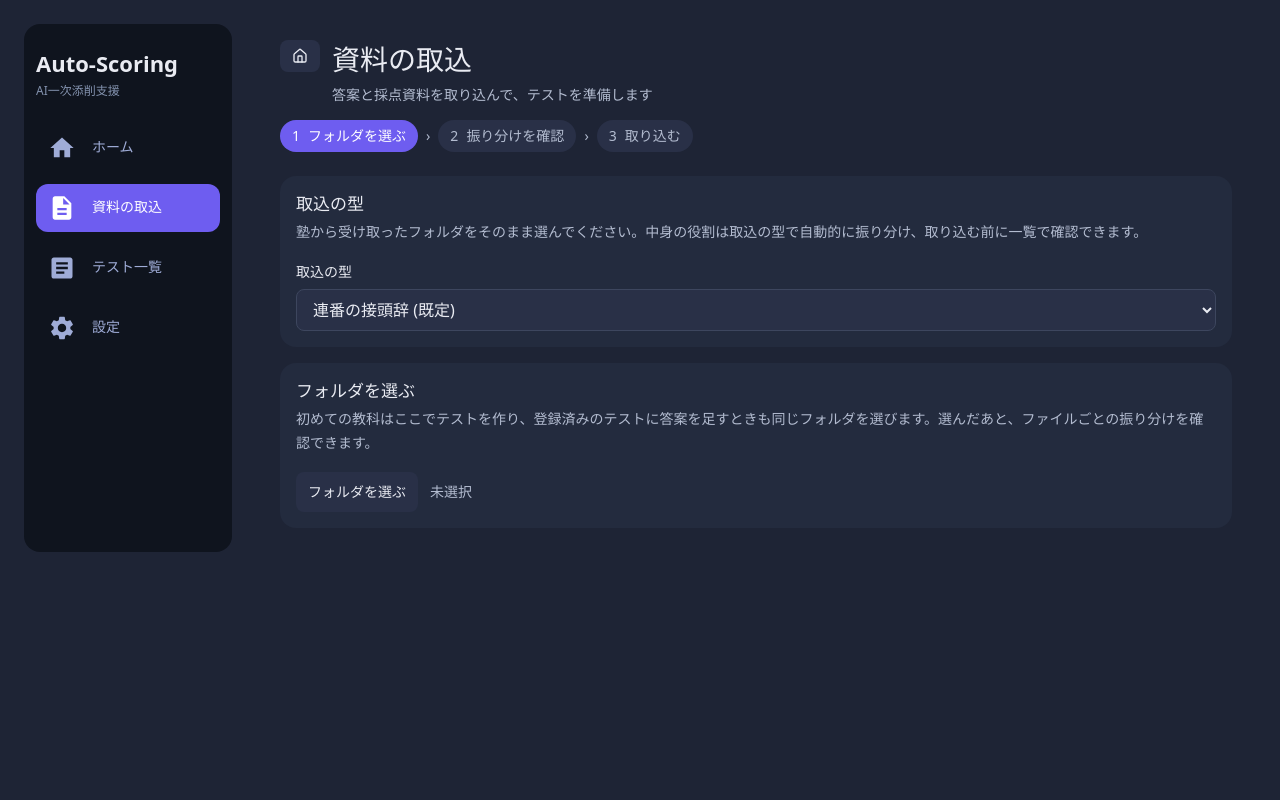
Scenario: Issue #384 (3): the intake selection survives leaving the screen › does not restore when the folder changed on disk, and says why
This screenshot has width=1280, height=800.
Check: the dropdown with test id "intake-template-picker" is shown, box [296, 289, 1216, 331]
What coordinates should you click on to do the following:
click the button with test id "intake-choose-folder"
I would click on:
 (357, 492)
Its box is [296, 472, 418, 512].
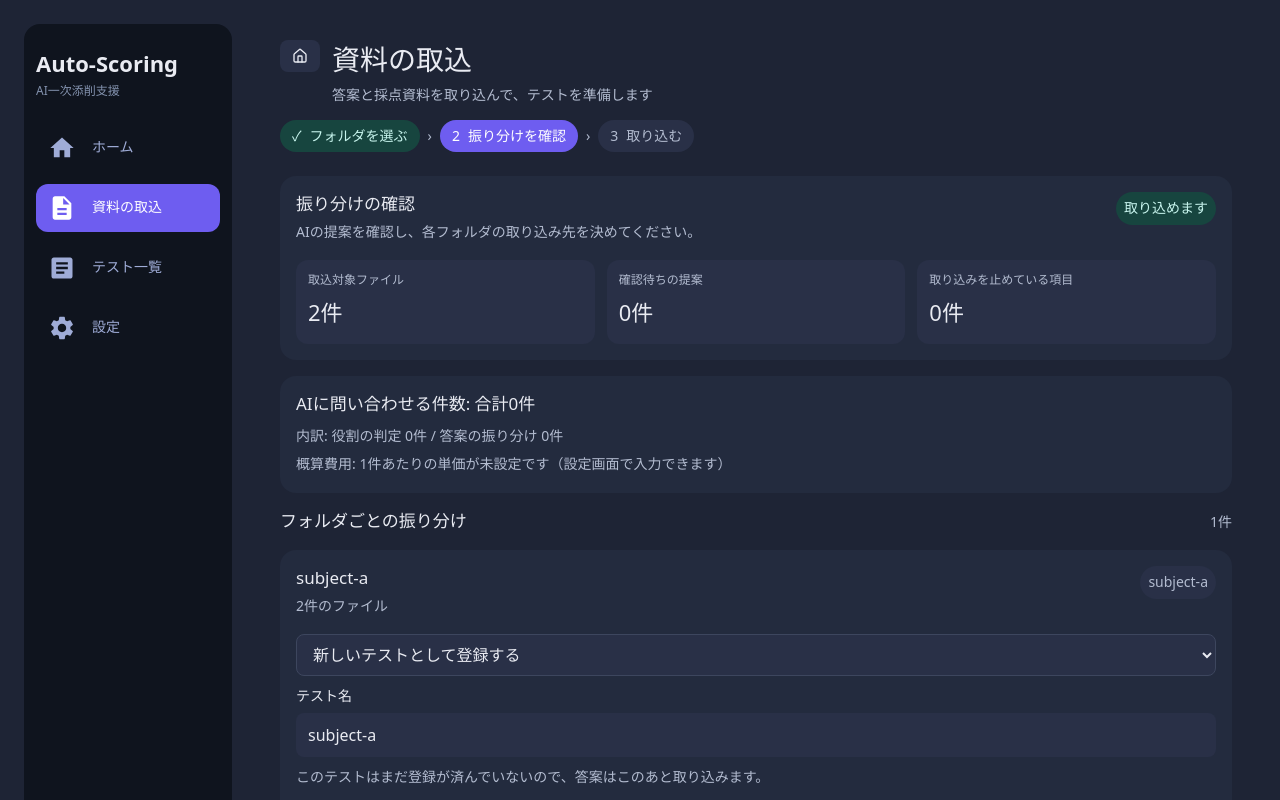
Check: the element with test id "intake-review-summary" is shown, box [280, 176, 1232, 360]
What coordinates should you click on to do the following:
click the button with test id "sidebar-nav-tests"
I would click on:
 (128, 268)
Its box is [36, 244, 220, 292].
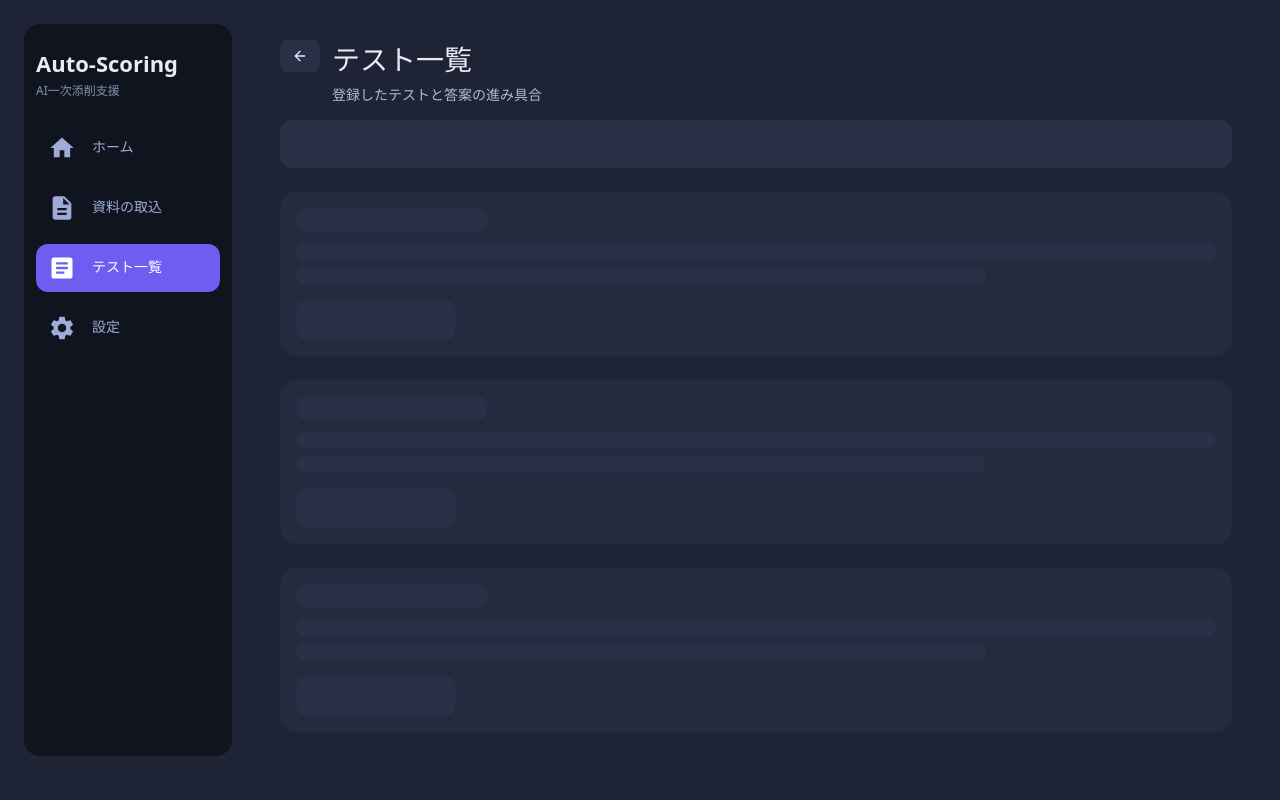
Check: the heading "テスト一覧" is shown, box [332, 40, 472, 78]
What coordinates should you click on to do the following:
click the button with test id "sidebar-nav-intake"
I would click on:
 (128, 208)
Its box is [36, 184, 220, 232].
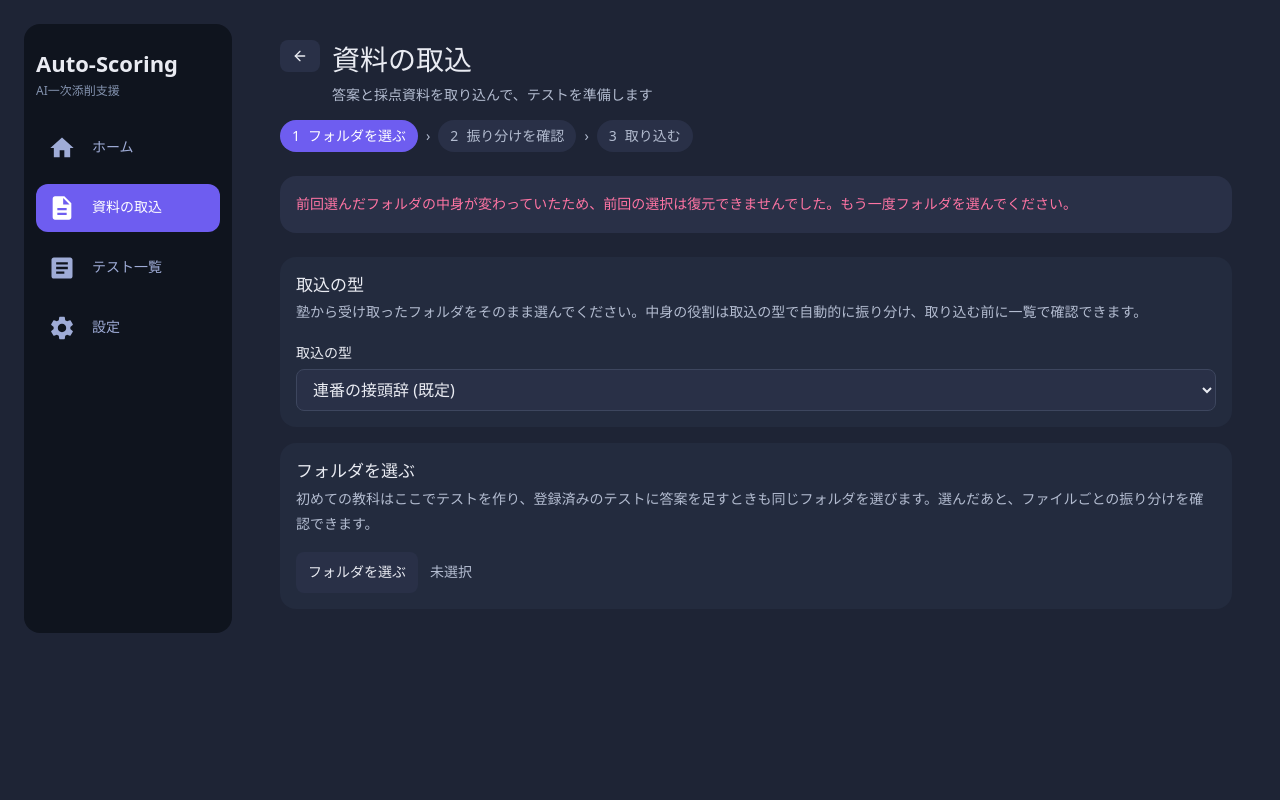
Check: the element with test id "intake-restore-stale" is shown, box [280, 176, 1232, 233]
Check: the button with test id "intake-choose-folder" is shown, box [296, 552, 418, 593]
